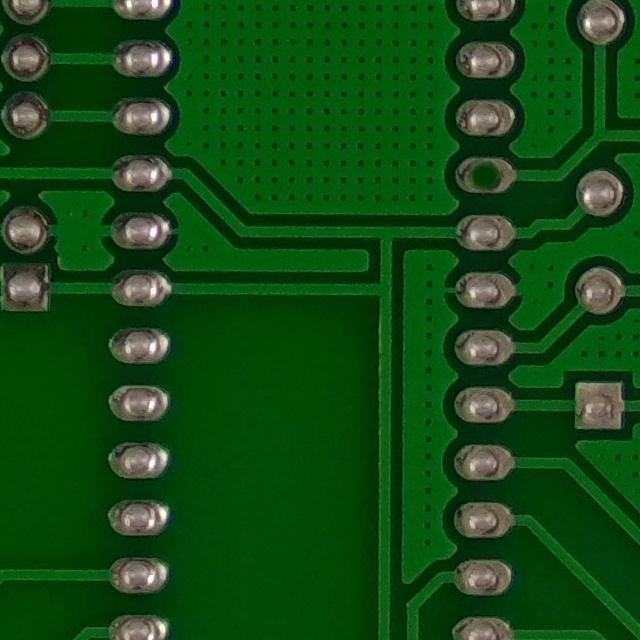missing_hole: (453, 145, 526, 212)
